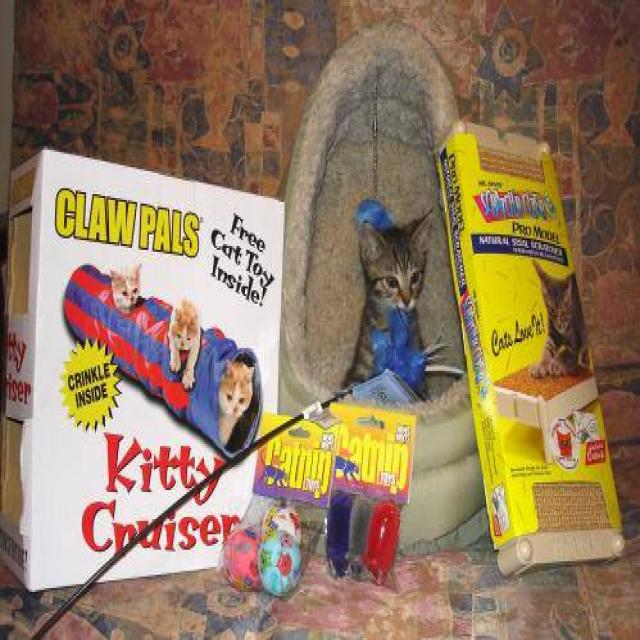cat: (338, 206, 434, 394), (527, 258, 590, 378), (108, 260, 144, 312)
